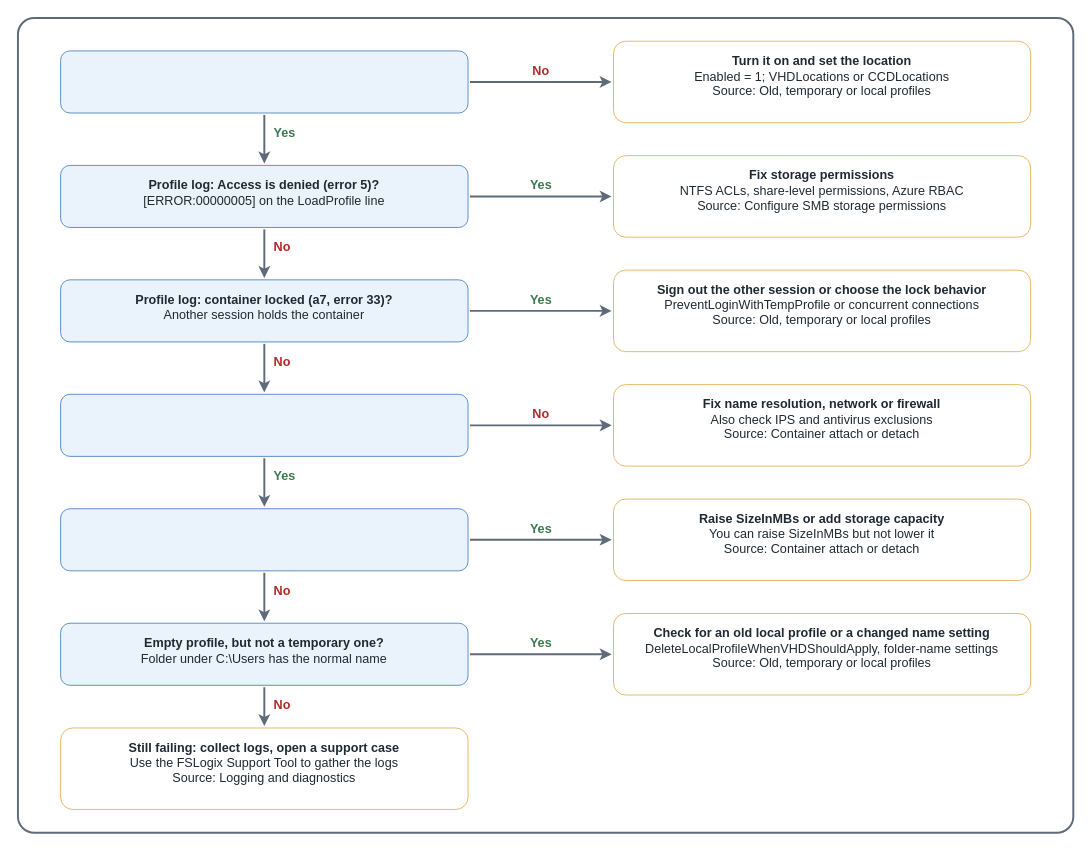
Image size: 1090x850. Some labels were removed from this diagram. The shapes that lost their labels are listed below. From the top down, each one's box as (x1, y1, x2, y2) in pixels, then its label:
(60, 50, 468, 113): FSLogix enabled and VHDLocations set? Registry: Enabled = 1, location present
(60, 393, 468, 456): Can the host reach the share on SMB? Test-NetConnection -CommonTCPPort SMB
(60, 508, 468, 571): Is the container or the storage full? Needs more than 200 MB free to attach
